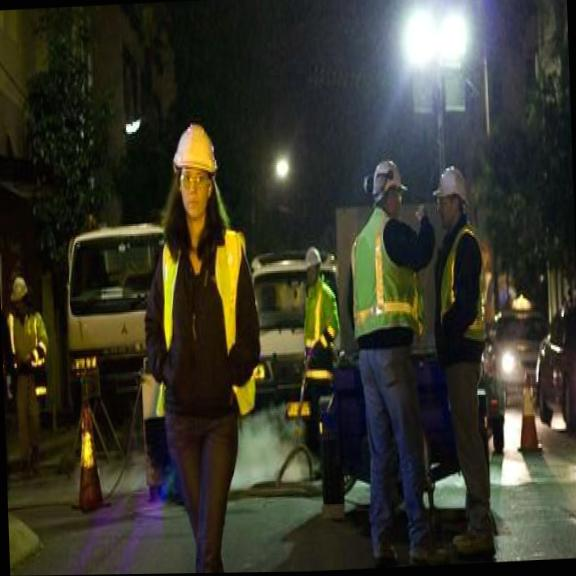safety_vest: (146, 215, 260, 421), (349, 207, 423, 344), (436, 216, 486, 345), (300, 271, 340, 379), (6, 304, 50, 373), (0, 302, 5, 382)
